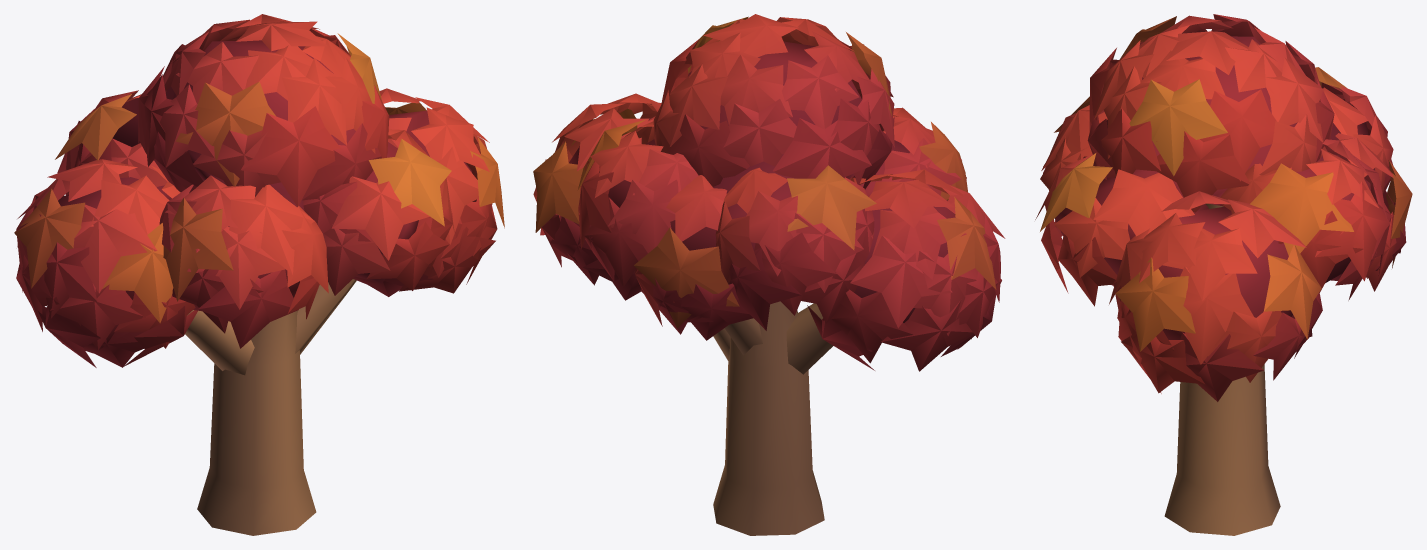
Rendered from Autumn_Tree_Remake.glb.
3 renders of one model, left to right at view 1: azimuth 30°, elevation 25°; view 2: azimuth 150°, elevation 25°; view 3: azimuth 270°, elevation 25°, orthographic.
Parts seen in each view (by area): view 1: Maple_Remake; view 2: Maple_Remake; view 3: Maple_Remake.
Boxes of the visible parts, x1=… form: Maple_Remake: x1=14, y1=14, x2=504, y2=535; Maple_Remake: x1=533, y1=14, x2=1005, y2=535; Maple_Remake: x1=1035, y1=14, x2=1412, y2=535.
Bounding box in the file's own units: 4.56 × 4.69 × 3.32.
